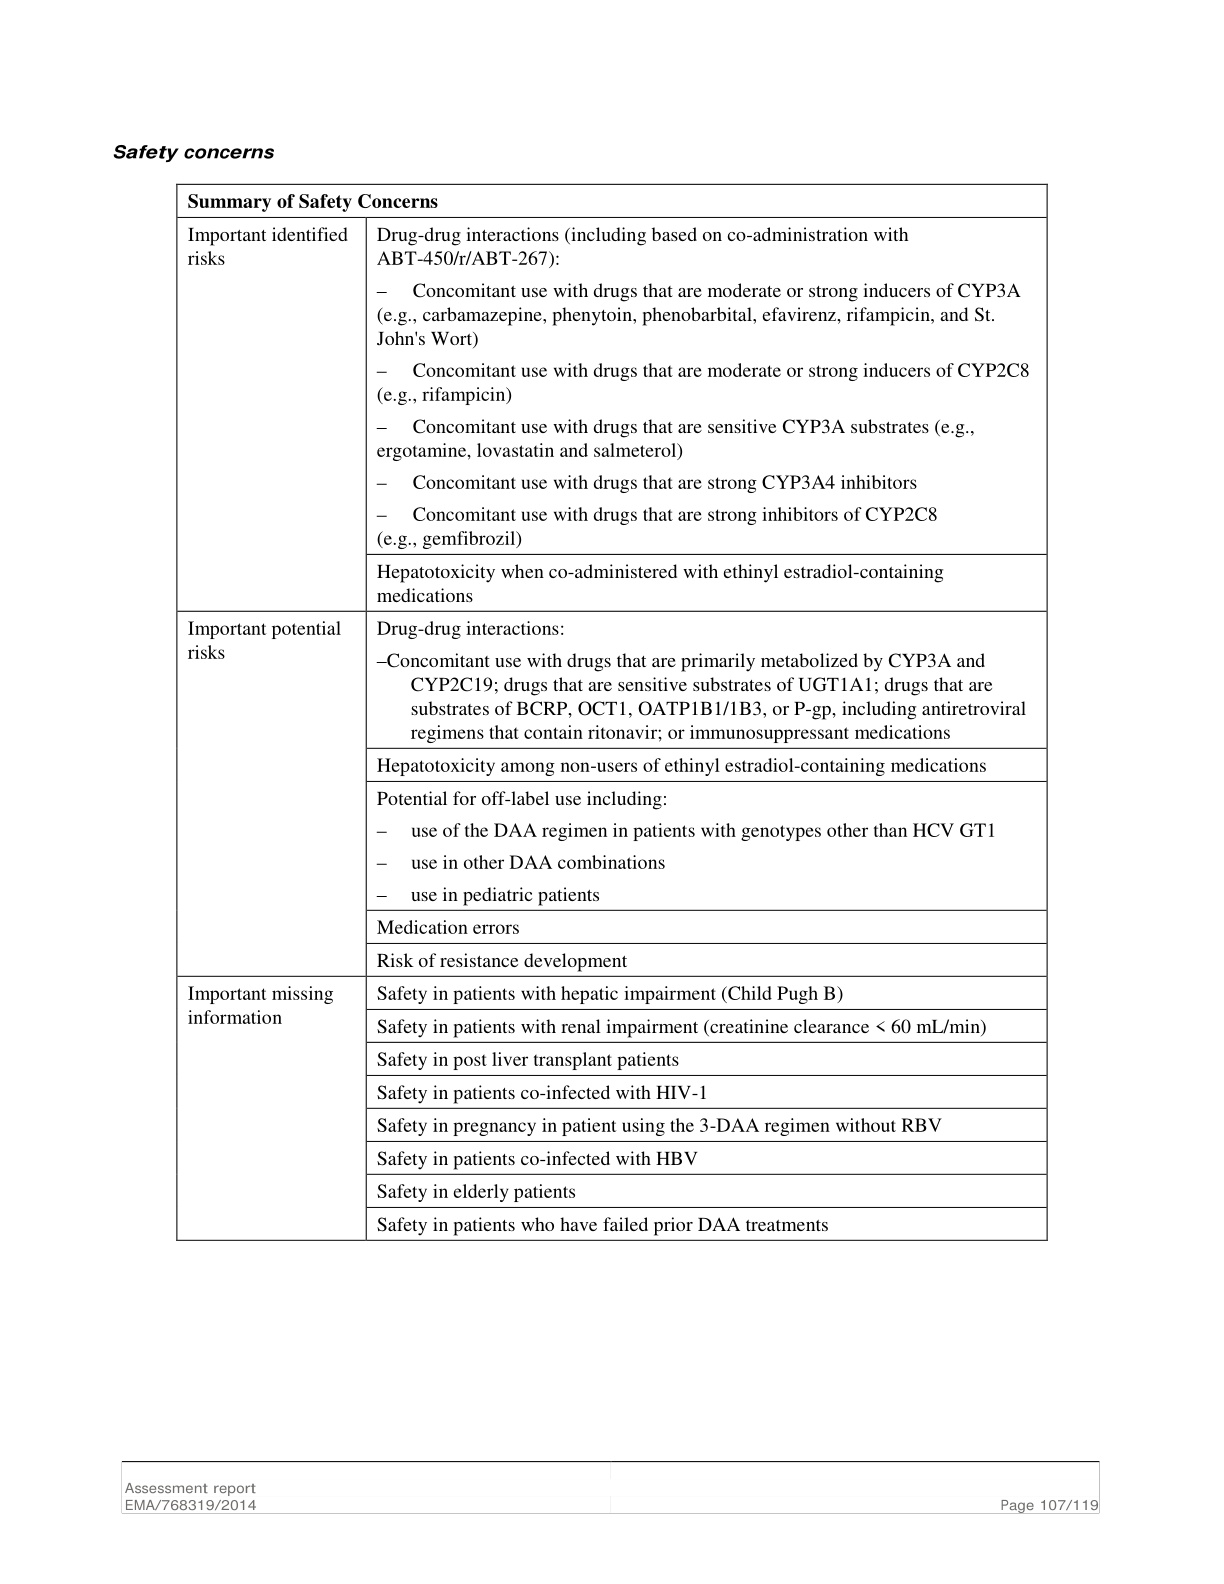merged_cells: (175, 181, 1050, 1241)
